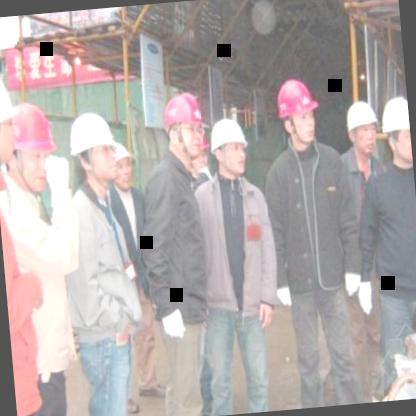helmet: (4, 100, 59, 197), (68, 105, 123, 192), (272, 74, 324, 149), (159, 89, 207, 167), (206, 113, 252, 180), (376, 90, 414, 170), (340, 96, 382, 159), (0, 58, 20, 180), (110, 140, 139, 192)
